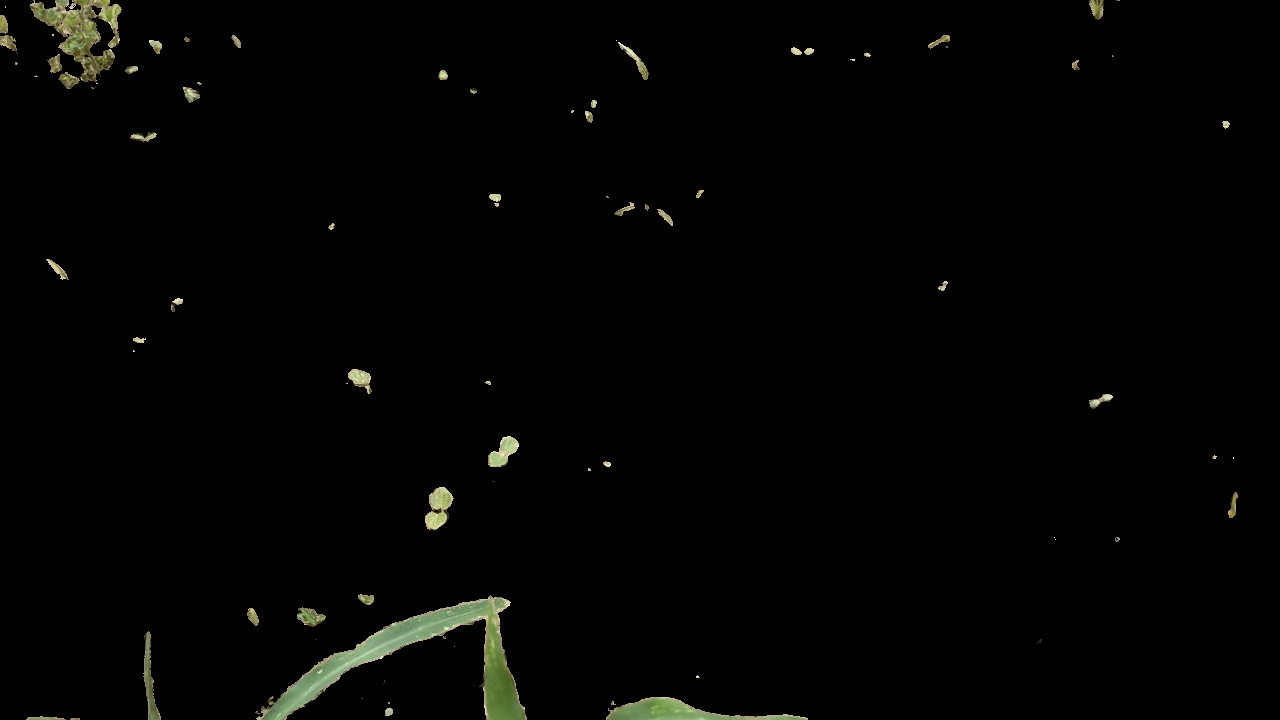crop: (106, 577, 512, 720), (476, 597, 828, 720)
weed: (1, 1, 139, 95), (419, 481, 462, 538), (122, 118, 171, 147), (285, 602, 331, 632), (488, 438, 522, 477), (346, 357, 379, 397), (783, 37, 819, 68), (1088, 387, 1122, 419)
